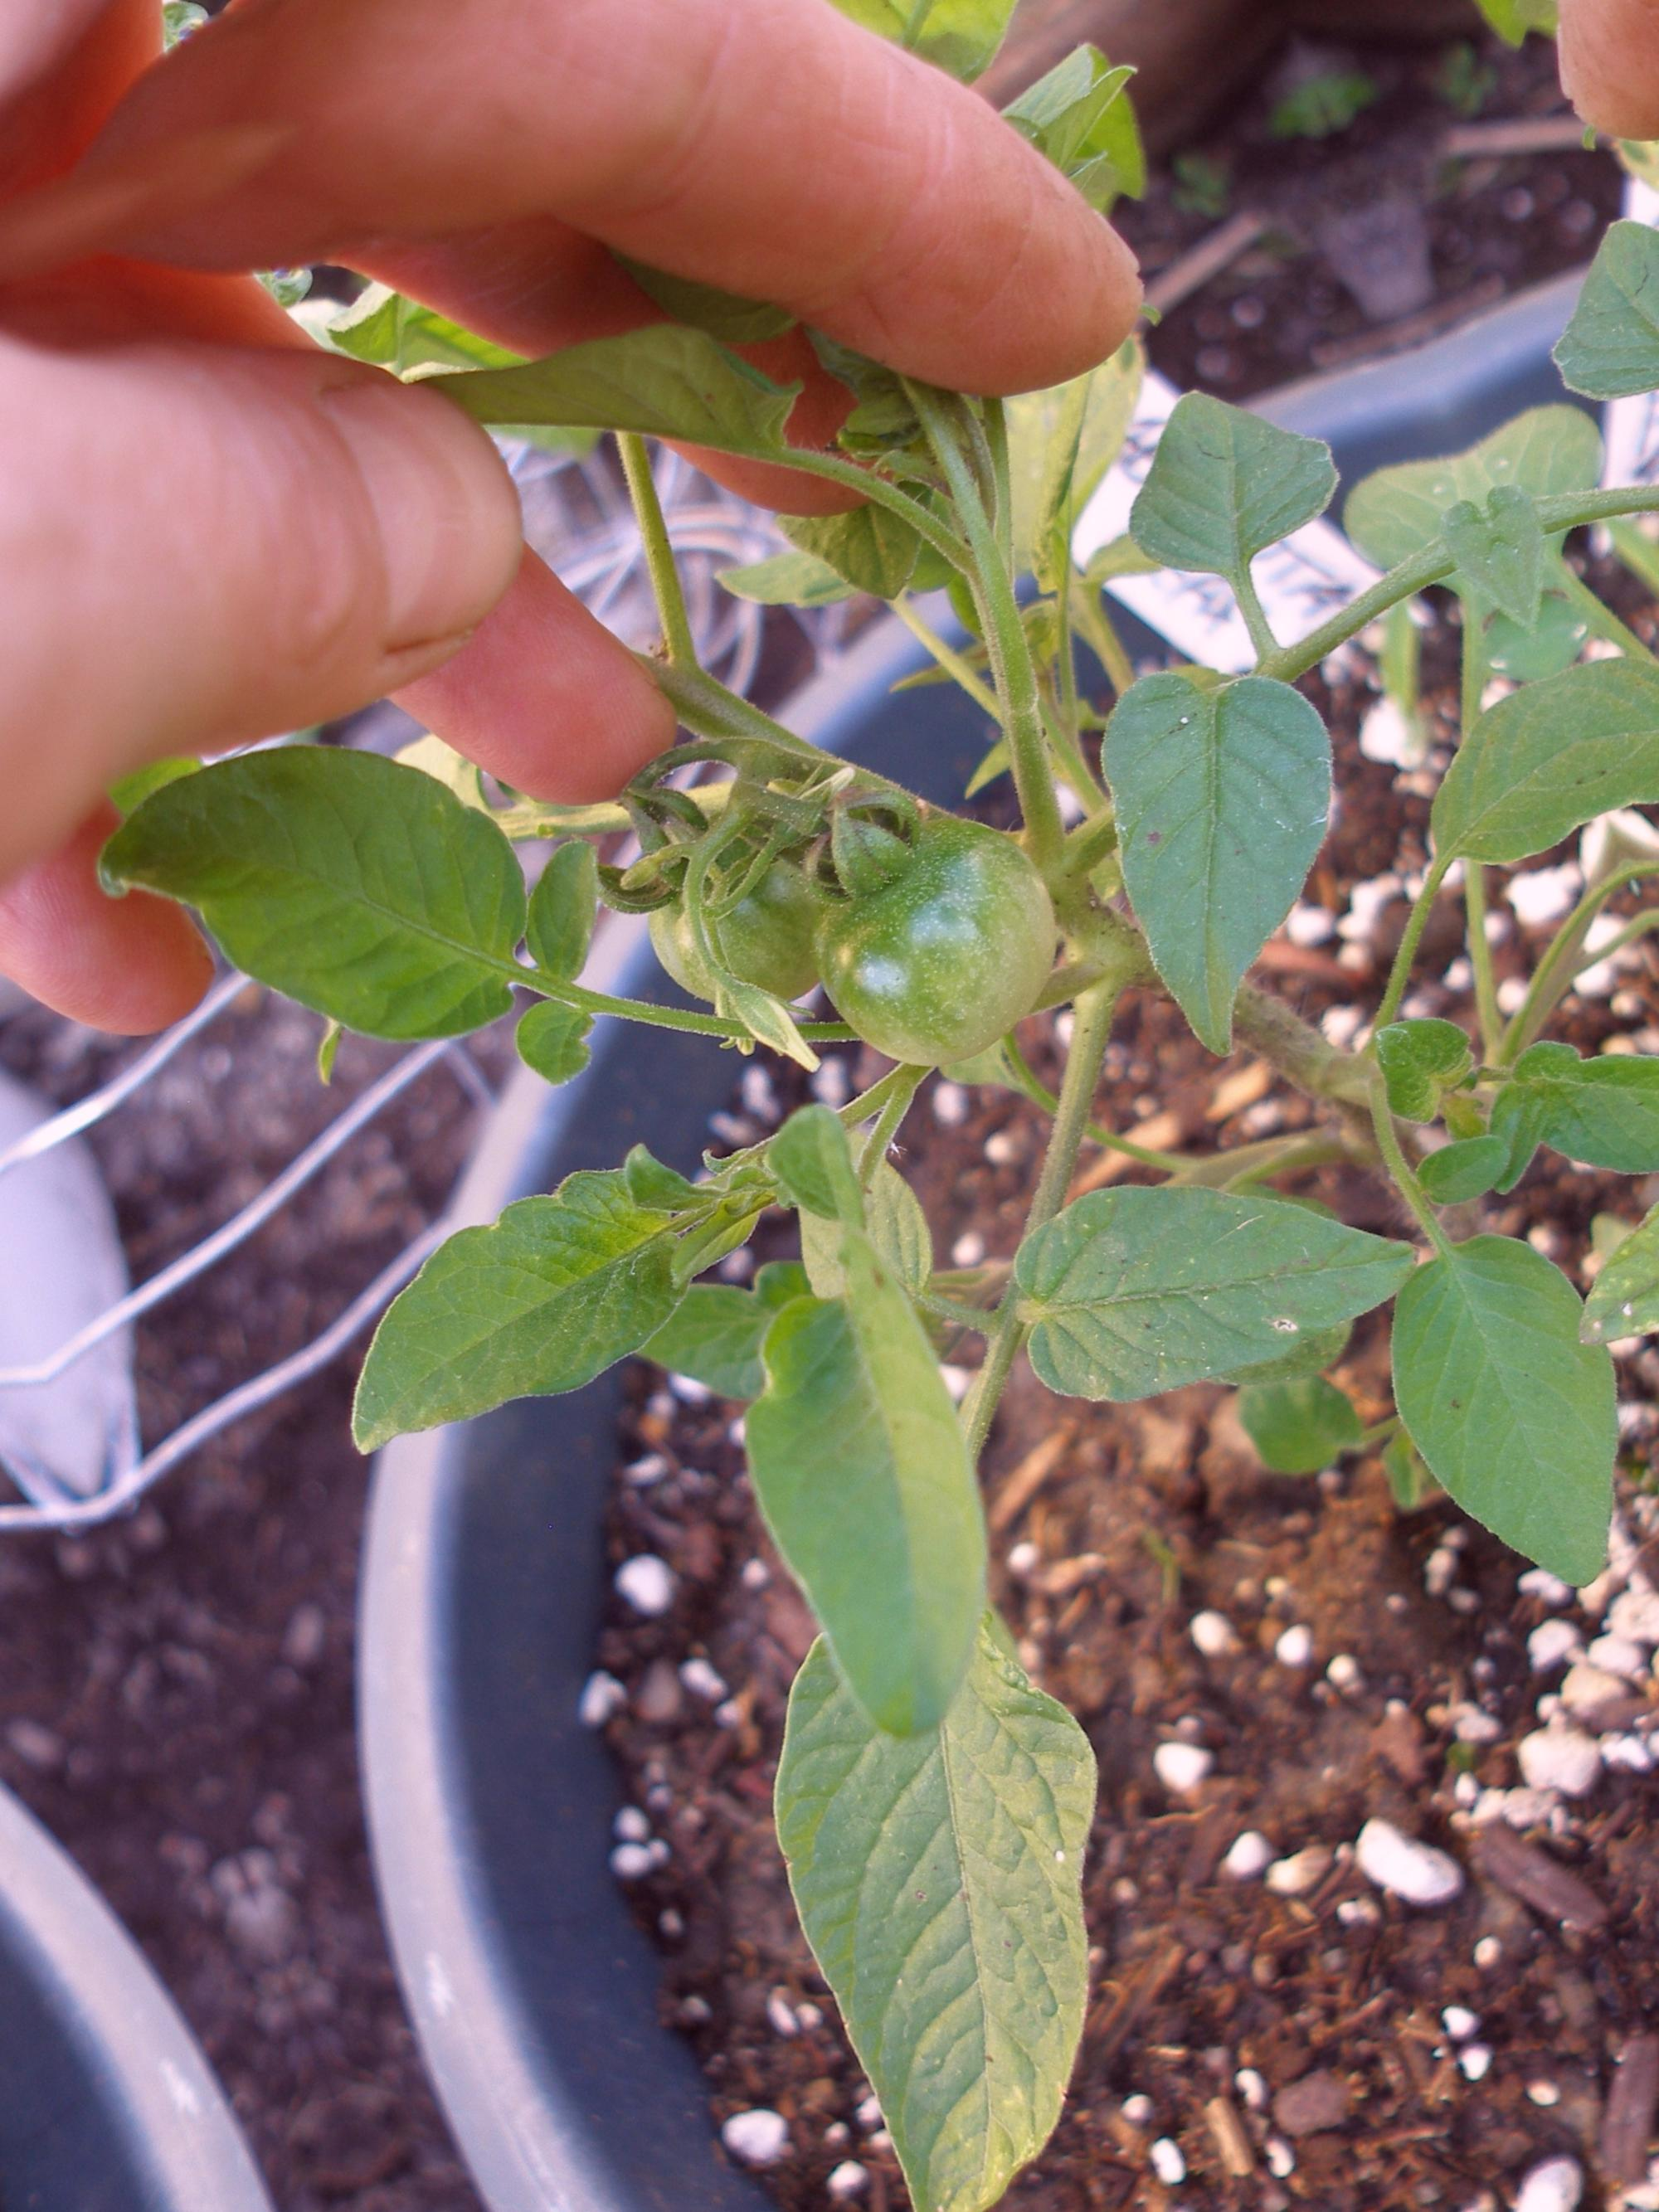Tomato leaf: (624, 1486, 1338, 2212), (49, 618, 640, 1212), (931, 1062, 1466, 1522), (202, 1090, 702, 1555), (681, 1252, 1075, 1799), (995, 603, 1450, 1054), (1309, 1169, 1659, 1674), (1405, 956, 1659, 1266)
